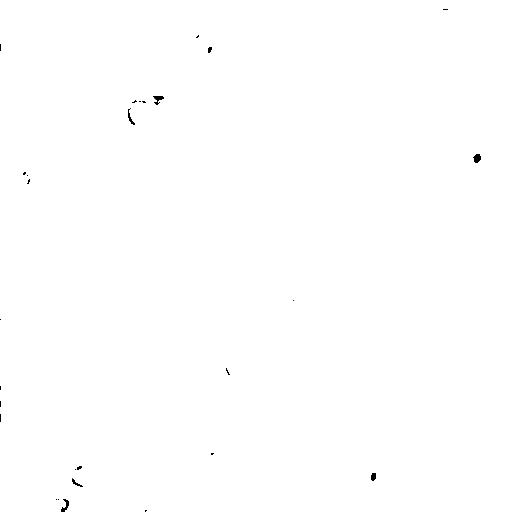micro-algae: (177, 89, 250, 160), (365, 0, 432, 62), (451, 148, 508, 205), (337, 231, 392, 287), (389, 432, 441, 488), (63, 269, 106, 313), (200, 31, 231, 69), (359, 321, 392, 352), (358, 458, 386, 493), (202, 0, 231, 33), (91, 178, 125, 206), (461, 139, 489, 173), (145, 484, 179, 511), (237, 285, 263, 317), (125, 97, 149, 128), (349, 60, 381, 83), (251, 329, 279, 355), (52, 454, 77, 483), (177, 441, 204, 466), (379, 418, 401, 448), (225, 355, 250, 381), (146, 427, 167, 457), (199, 435, 223, 461), (186, 27, 209, 52), (156, 91, 177, 117), (429, 0, 461, 17), (264, 433, 287, 456), (286, 315, 313, 334), (379, 196, 402, 218), (71, 464, 93, 487), (2, 385, 17, 418), (35, 159, 57, 181), (101, 325, 121, 349), (162, 51, 183, 73), (289, 282, 309, 301), (126, 495, 149, 511), (153, 484, 173, 502), (463, 0, 490, 13), (47, 7, 64, 27), (133, 299, 149, 319), (49, 495, 69, 511), (17, 169, 31, 189)
